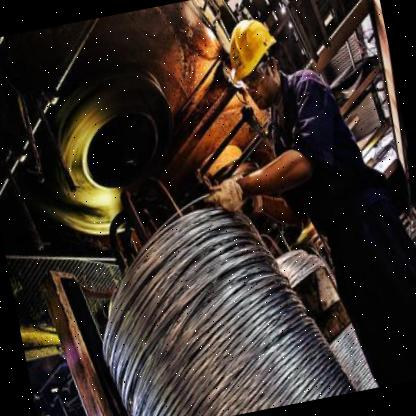capacete: (220, 13, 287, 88)
oculos: (235, 57, 281, 90)
